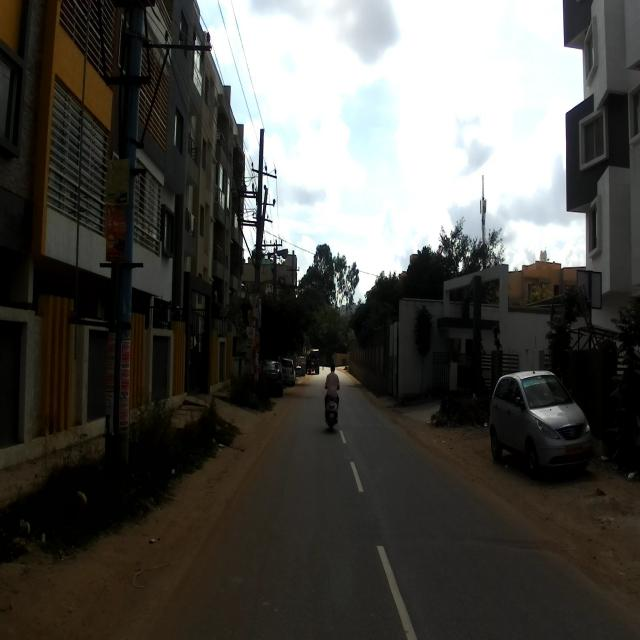Car_TATA: (489, 370, 592, 480)
scooter: (322, 386, 340, 429)
